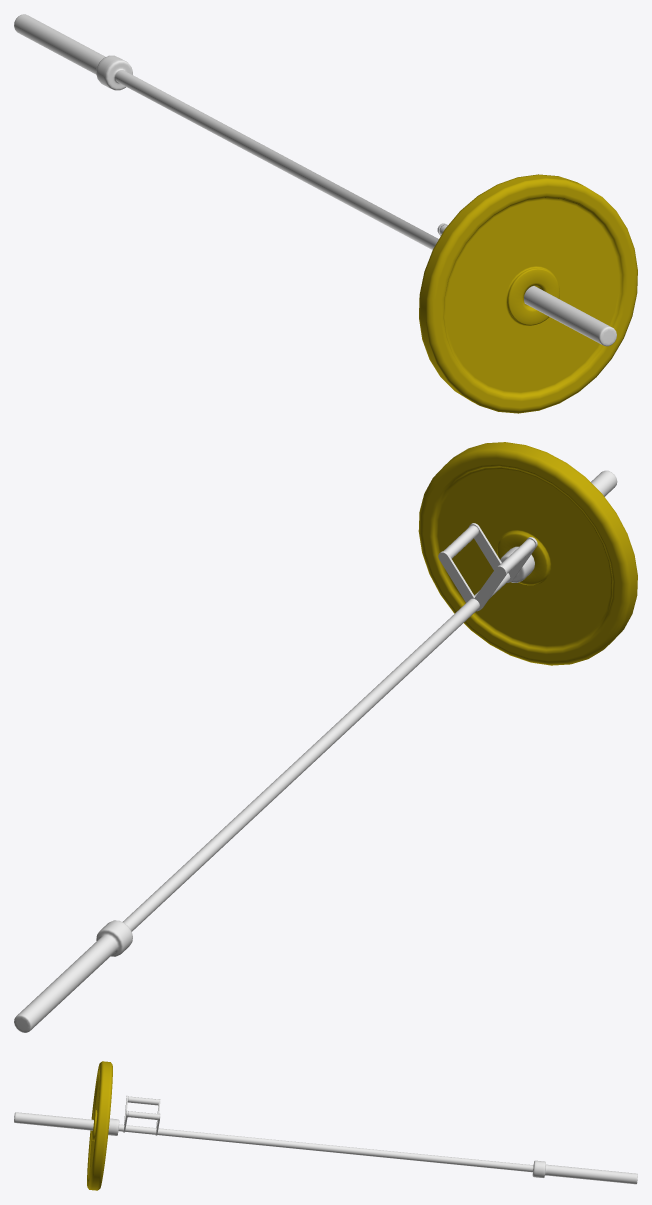
Rendered from BackBarbell1.fbx.
3 views of the same model, one above another, from view 1: azimuth 30°, elevation 25°; view 2: azimuth 150°, elevation 25°; view 3: azimuth 270°, elevation 25° (orthographic). The views are drawn at different scales.
Visible parts, largest first — view 1: Cylinder; view 2: Cylinder; view 3: Cylinder.
Boxes of the visible parts, left/top/right/bottom form: Cylinder: left=14, top=14, right=637, bottom=413; Cylinder: left=14, top=442, right=637, bottom=1032; Cylinder: left=14, top=1061, right=637, bottom=1190.
Bounding box in the file's own units: 56.48 × 56.57 × 272.
